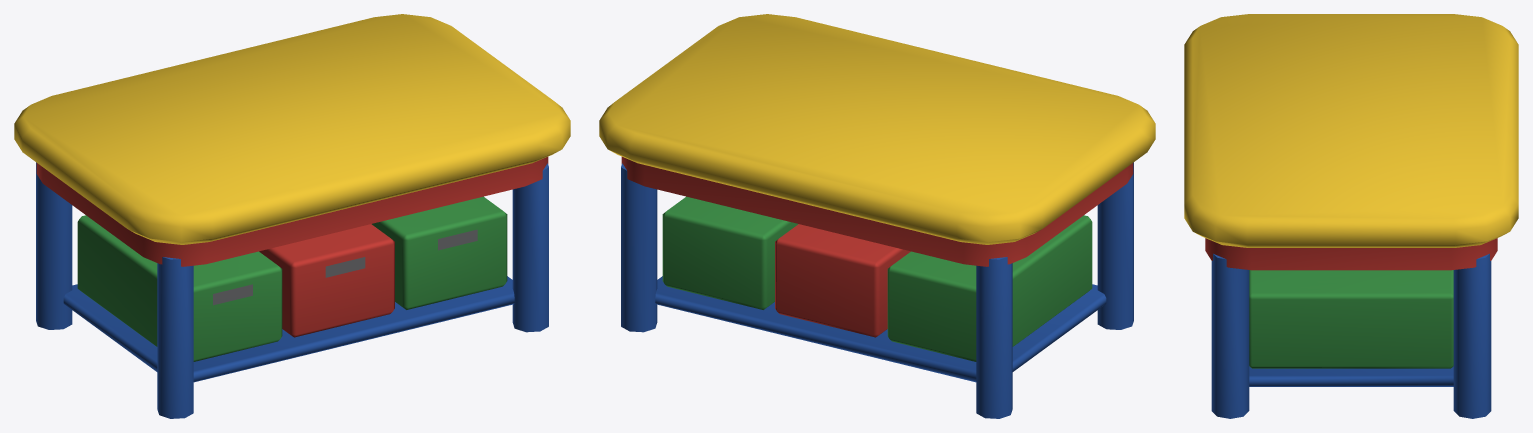
File: child_table.glb
The picture shows the model from 3 angles, left to right: view 1: azimuth 30°, elevation 25°; view 2: azimuth 150°, elevation 25°; view 3: azimuth 270°, elevation 25°; orthographic projection.
Parts seen in each view (by area): view 1: playplace_child_table; view 2: playplace_child_table; view 3: playplace_child_table.
Part boxes in pixels (x1,y1,x2,y2): playplace_child_table: (14,14,570,418); playplace_child_table: (599,14,1155,418); playplace_child_table: (1184,14,1518,418).
Size of the model in its own units: 1.2 by 0.55 by 0.8.
